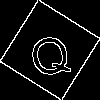Q: (25, 25, 74, 81)
